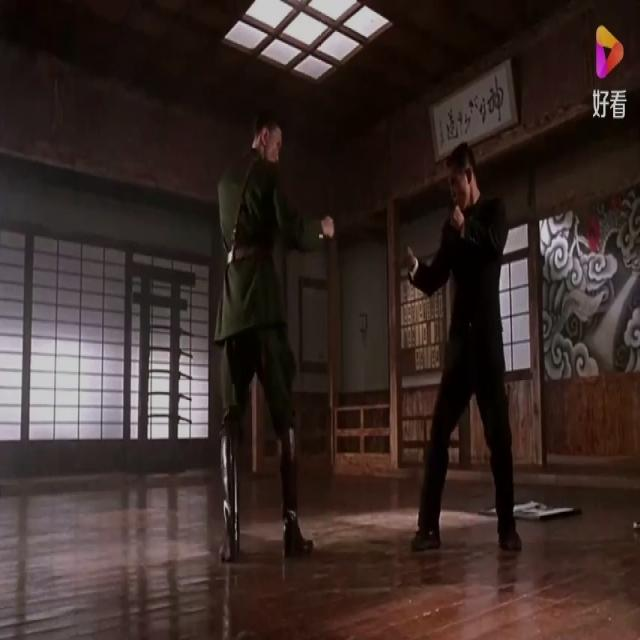fight: (207, 107, 523, 559)
